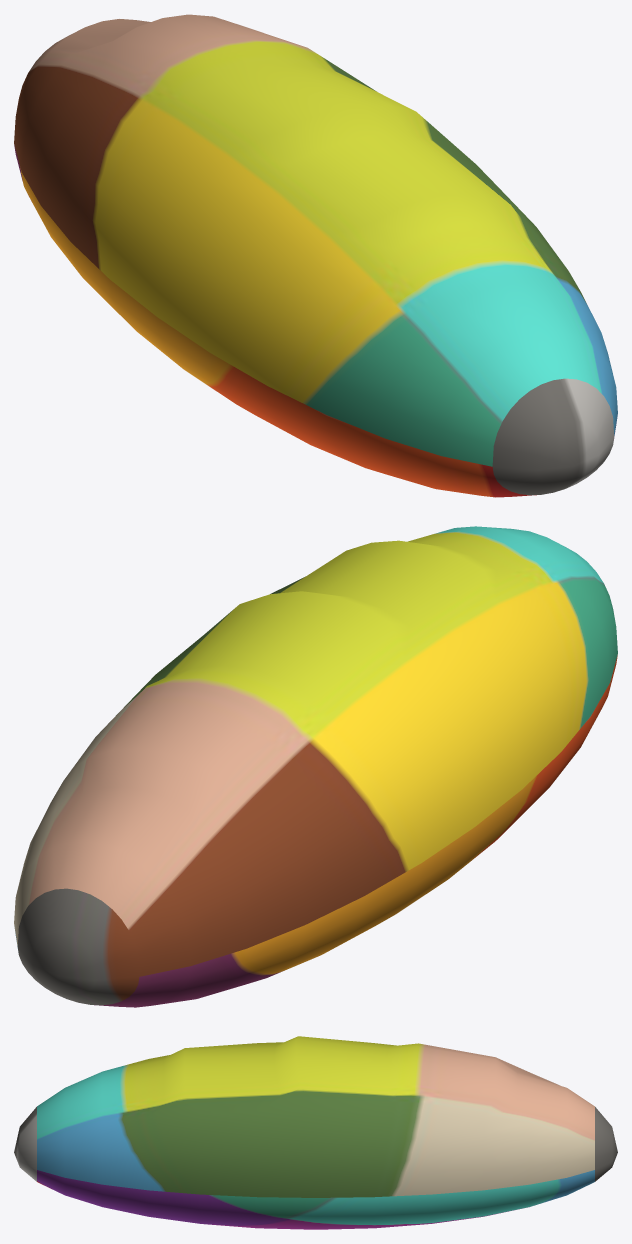
Rendered from Bread.FBX.
3 views of the same model, one above another, from view 1: azimuth 30°, elevation 25°; view 2: azimuth 150°, elevation 25°; view 3: azimuth 270°, elevation 25° (orthographic). The views are drawn at different scales.
Parts seen in each view (by area): view 1: Bread; view 2: Bread; view 3: Bread.
Boxes of the visible parts, x1,y1,x2,y2 form: Bread: (14,14,617,497); Bread: (14,526,617,1007); Bread: (14,1036,617,1229).
Bounding box in the file's own units: 20 × 17.23 × 56.
